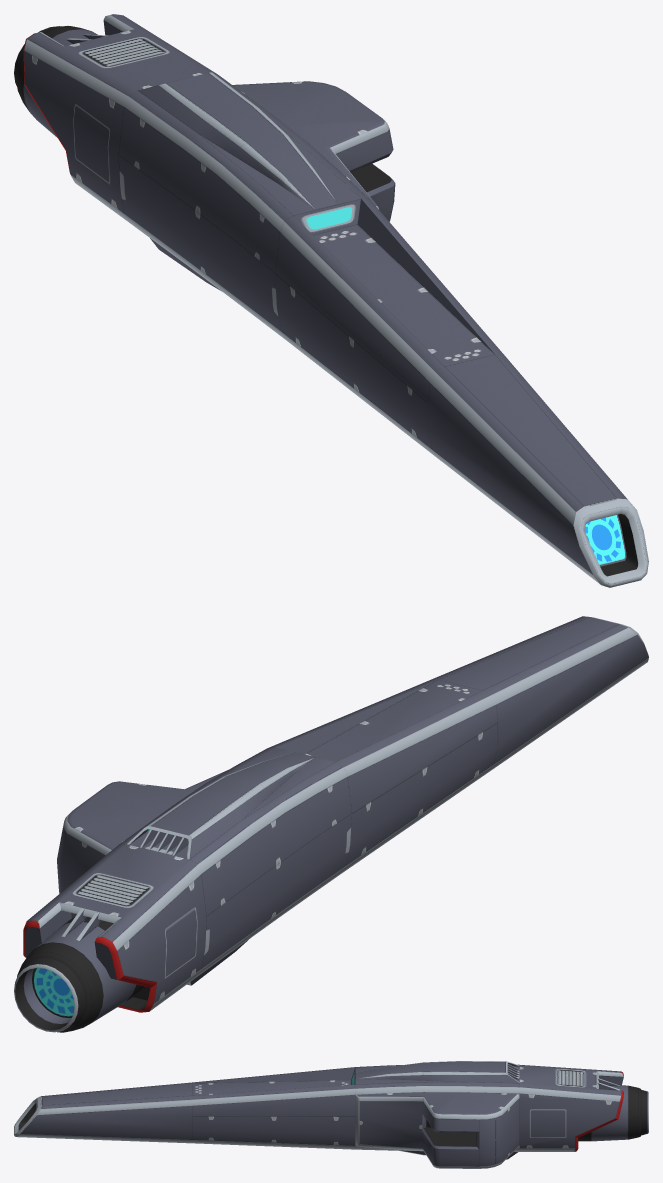
The model's file is Reactor_04_Right.FBX.
3 renders of one model, top to bottom at view 1: azimuth 30°, elevation 25°; view 2: azimuth 150°, elevation 25°; view 3: azimuth 270°, elevation 25°, orthographic. The views are drawn at different scales.
Visible parts, largest first — view 1: Reactor_04_Right; view 2: Reactor_04_Right; view 3: Reactor_04_Right.
Part boxes in pixels (left/top/right/bottom): Reactor_04_Right: left=14, top=14, right=648, bottom=587; Reactor_04_Right: left=14, top=616, right=648, bottom=1032; Reactor_04_Right: left=14, top=1061, right=648, bottom=1168.
Bounding box in the file's own units: 4.24 × 3.2 × 21.19.
